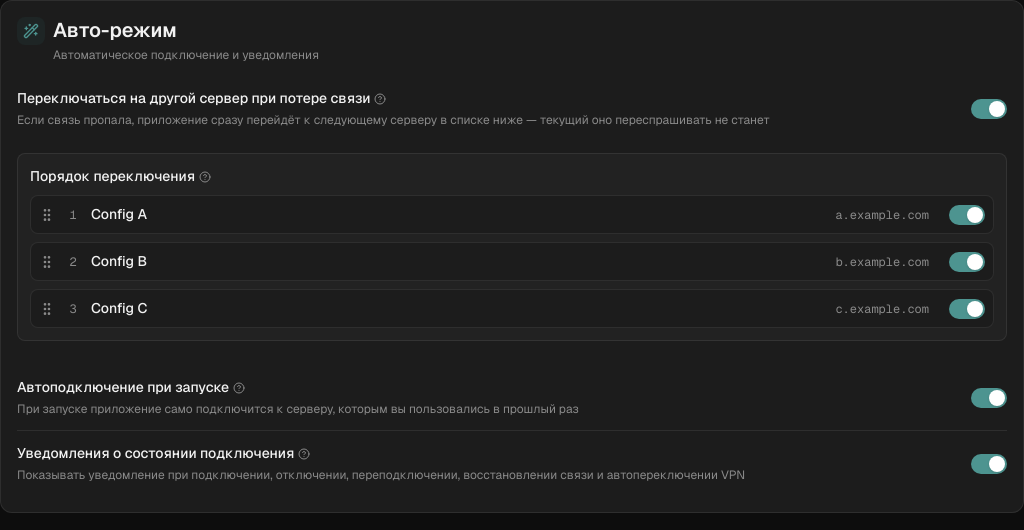
Test: AutoModeSettings — participation › leaves the row where it is and renumbers the participating rows
expect the number of list items is 3: met, box [30,195,994,234]; [30,242,994,281]; [30,289,994,328]
Click the switch named "Использовать Config B": (967, 262) [949,252,985,272]
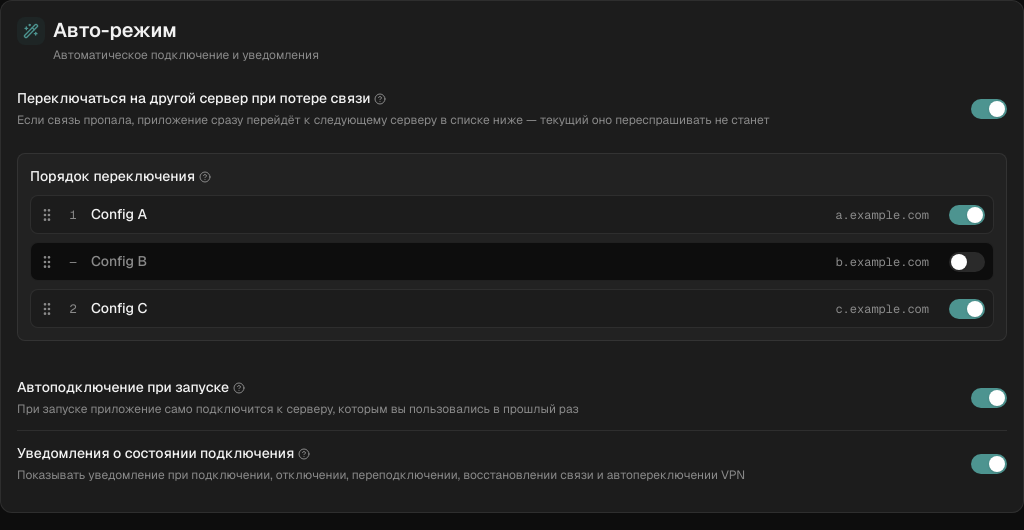
expect the list item "— Config B b.example.com" is shown: met, box [30,242,994,281]
expect the list item "2 Config C c.example.com" is shown: met, box [30,289,994,328]
